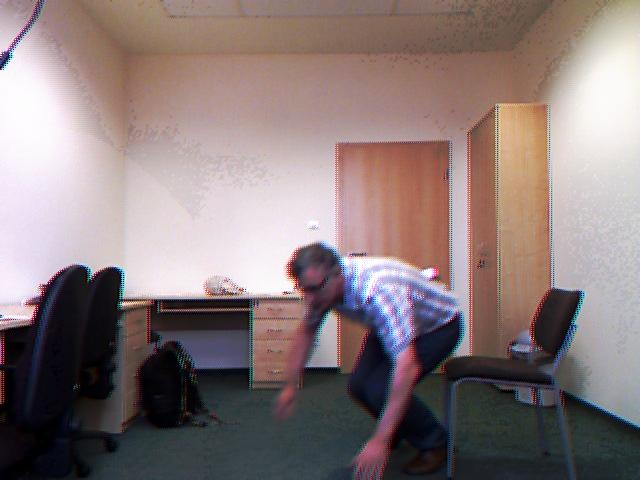near-fall: (270, 242, 481, 480)
